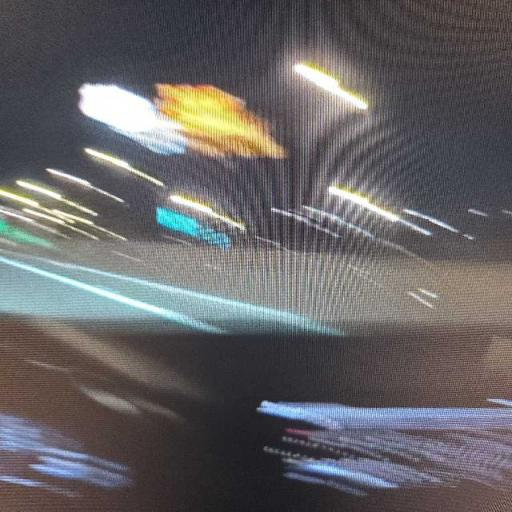lane: (0, 253, 339, 334), (0, 257, 223, 333)
